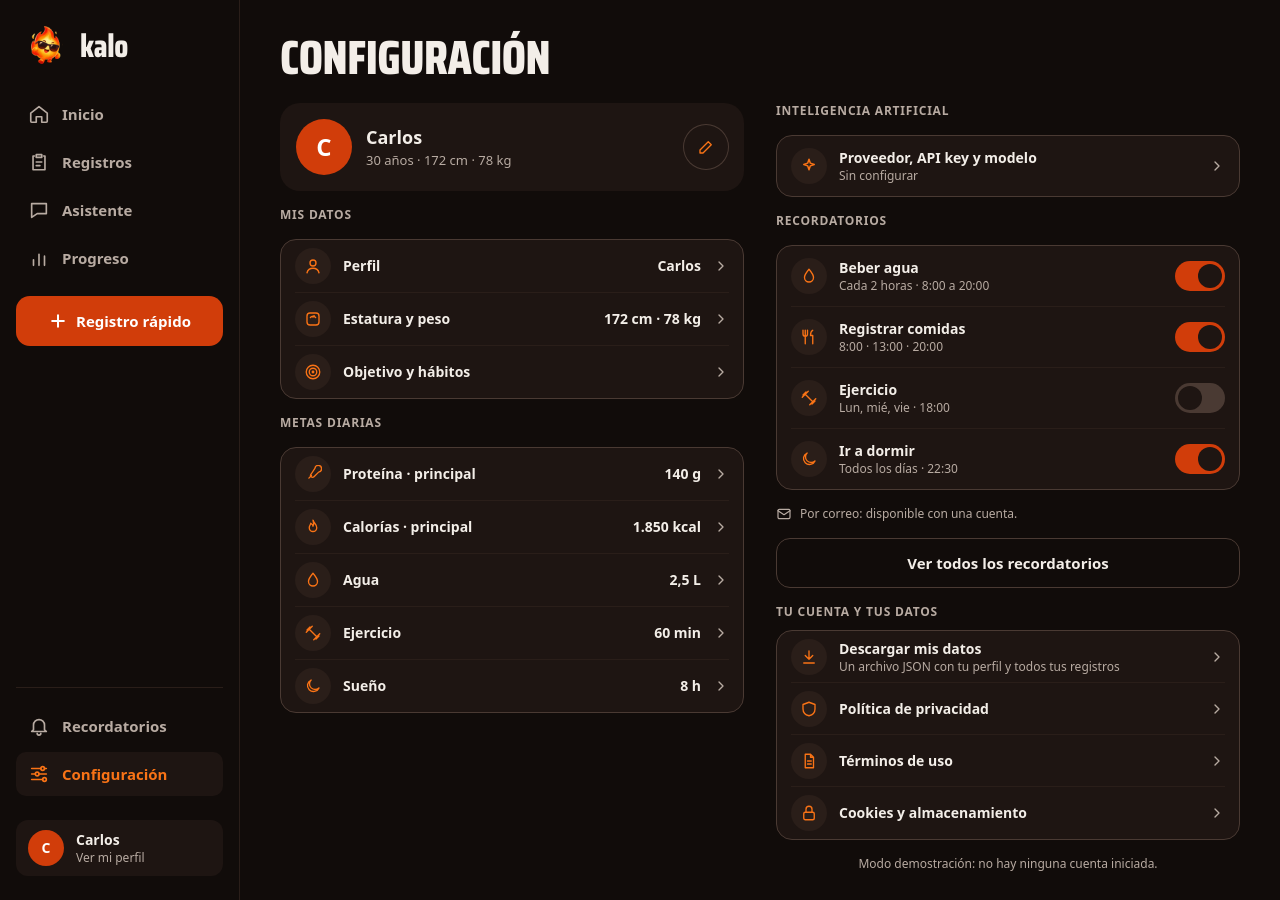
Onboarding › con plan, editar el perfil desde Configuración abre su propia pantalla con los datos actuales
The width and height of the screenshot is (1280, 900).
Step 1. Click the link named "Editar perfil" → click(706, 147), box top-left (684, 125), bottom-right (728, 169)
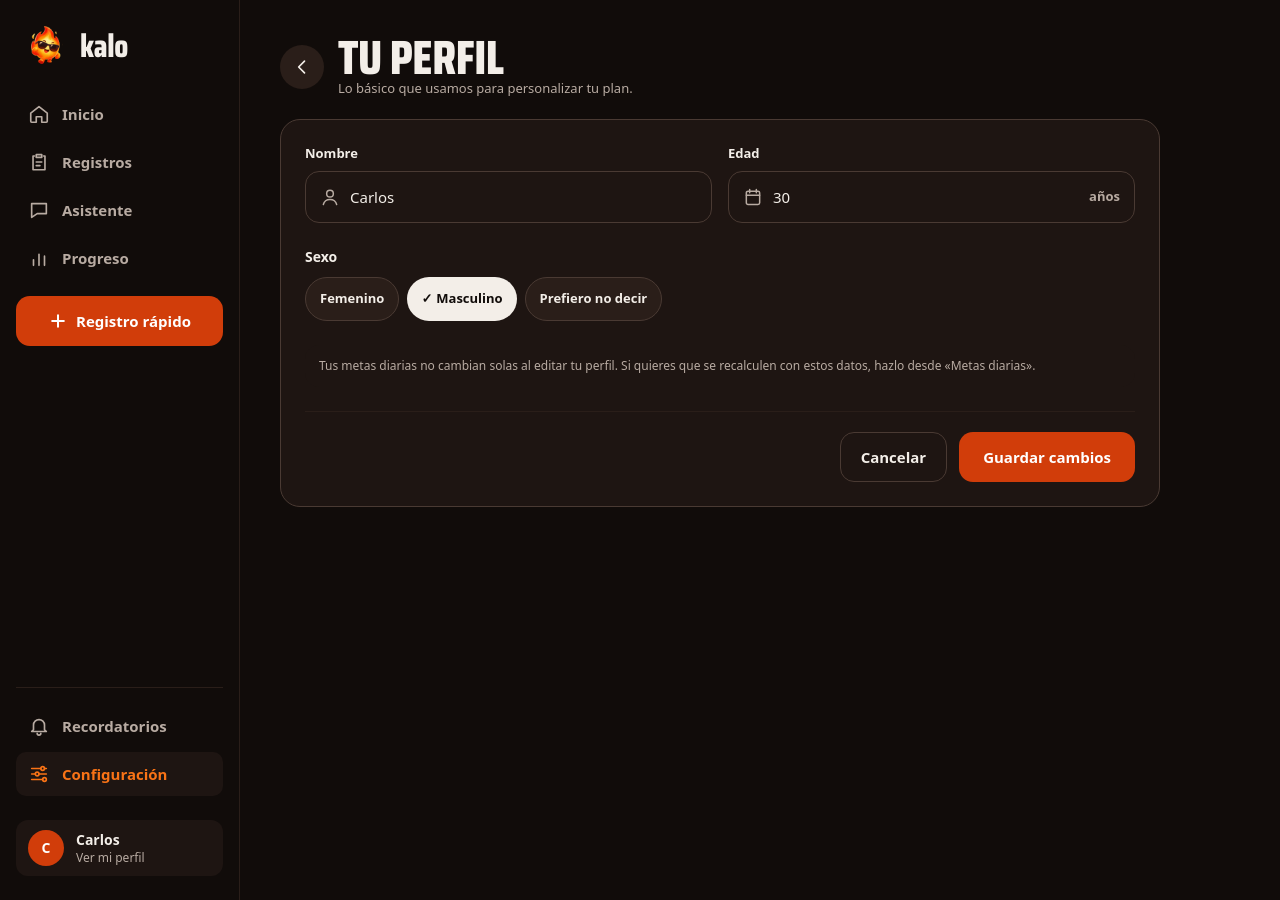
Result: the field labelled "Nombre" holds "Carlos" at top-left (350, 186), bottom-right (697, 208)
Result: the field labelled "Edad" holds "30" at top-left (773, 186), bottom-right (1079, 208)
